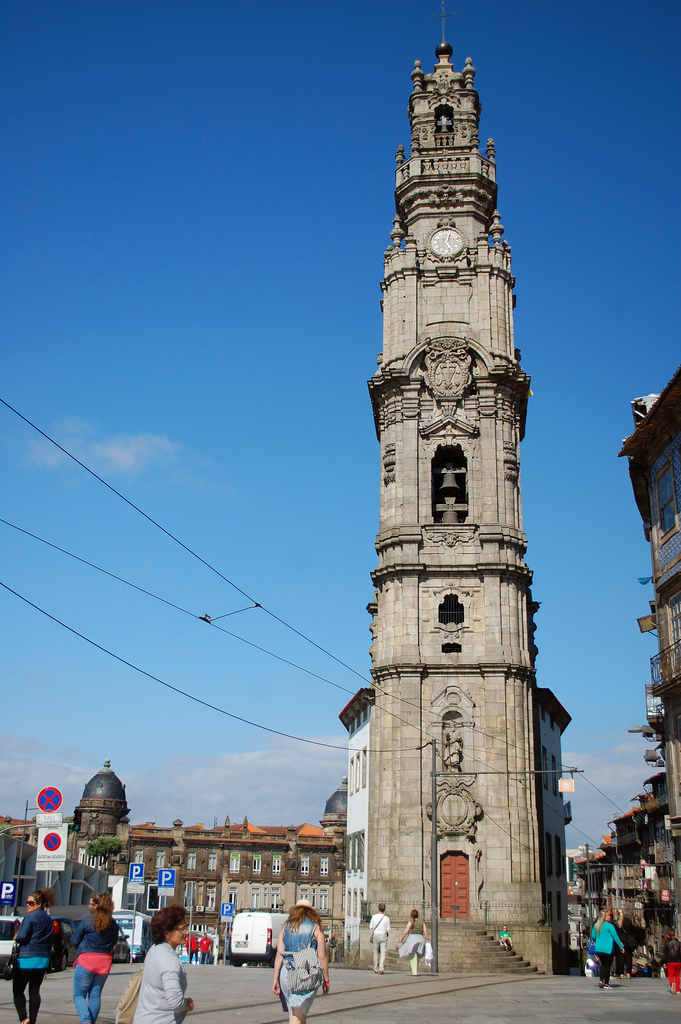clerigos: (362, 0, 552, 930)
